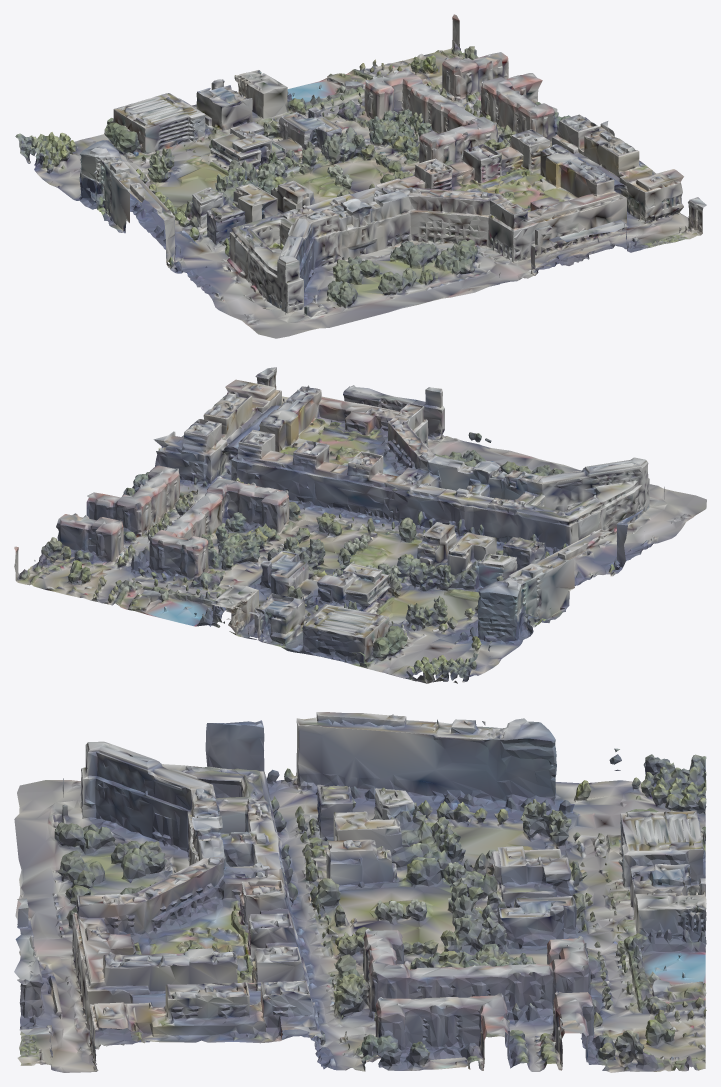
File: tile-3898_58189.glb
3 views of the same model, one above another, from view 1: azimuth 30°, elevation 25°; view 2: azimuth 150°, elevation 25°; view 3: azimuth 270°, elevation 25° (orthographic). The views are drawn at different scales.
Parts seen in each view (by area): view 1: world; view 2: world; view 3: world.
Part boxes in pixels (box(x1,y1,x2,y2)): world: box(15, 14, 706, 338); world: box(14, 367, 706, 683); world: box(14, 712, 706, 1072).
Bounding box in the file's own units: 372 × 45.01 × 365.
